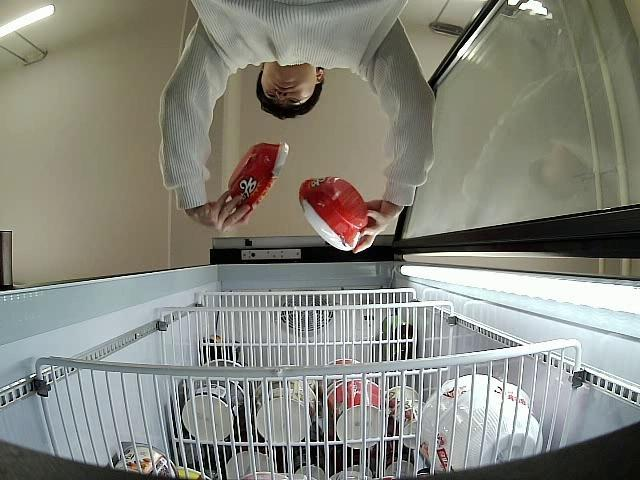10_wangTtukkeong: (300, 176, 368, 252), (228, 144, 288, 223)
